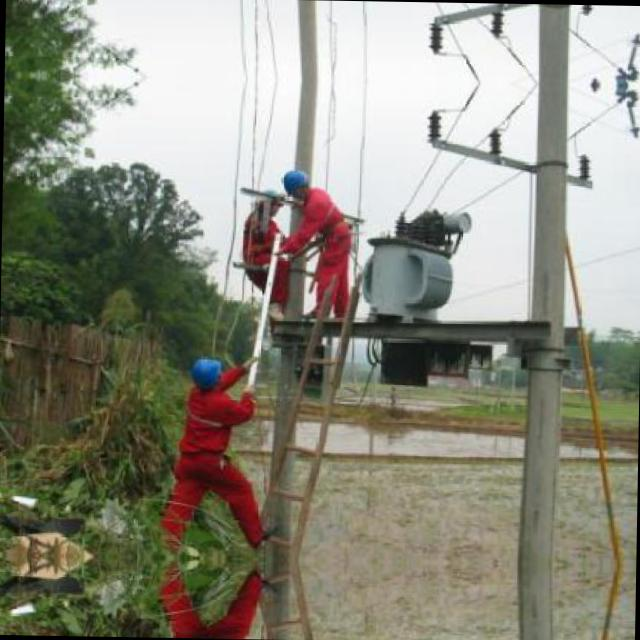helmet: (278, 163, 314, 204), (188, 352, 222, 389)
